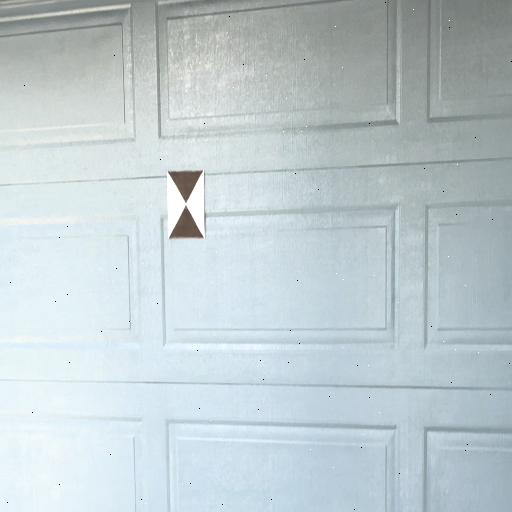target: (166, 170, 206, 239)
